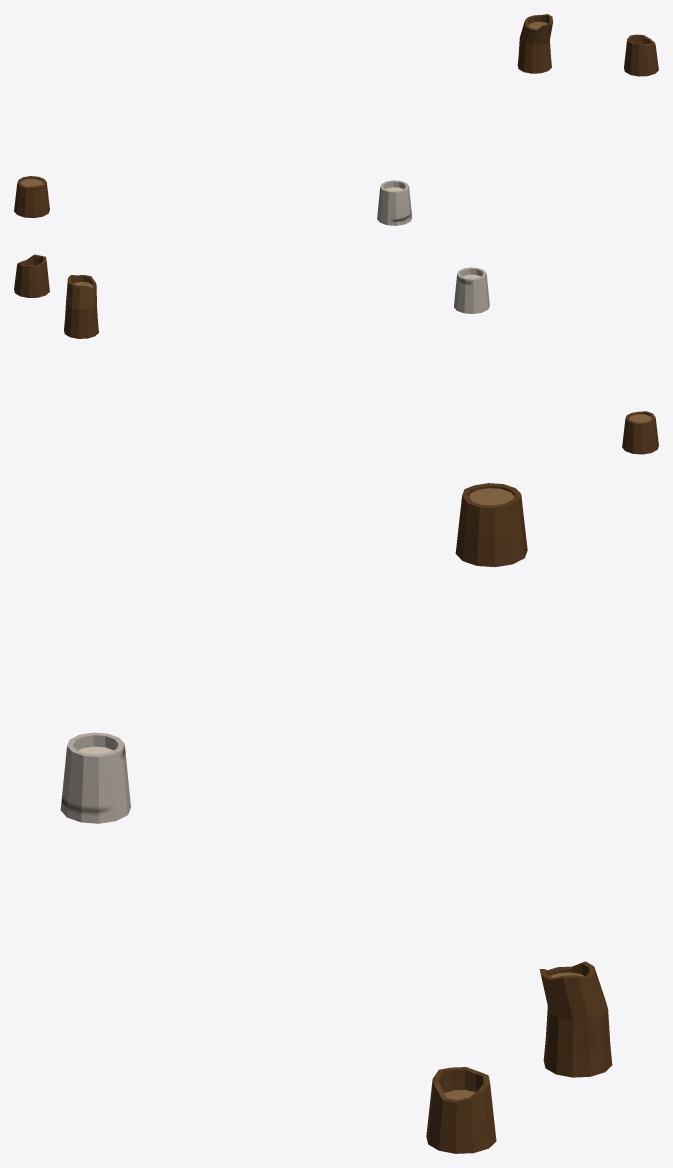
File: Trunks11.gltf
3 views of the same model, one above another, from view 1: azimuth 30°, elevation 25°; view 2: azimuth 150°, elevation 25°; view 3: azimuth 270°, elevation 25° (orthographic). The views are drawn at different scales.
Parts seen in each view (by area): view 1: Trunk3 - copy.006, Trunk2 - copy.008, Trunk1 - copy.012, Trunk4 - copy.010; view 2: Trunk3 - copy.006, Trunk2 - copy.008, Trunk1 - copy.012, Trunk4 - copy.010; view 3: Trunk3 - copy.006, Trunk2 - copy.008, Trunk4 - copy.010, Trunk1 - copy.012.
Part boxes in pixels (x1=…): Trunk3 - copy.006: x1=517, y1=14, x2=552, y2=73; Trunk2 - copy.008: x1=377, y1=180, x2=412, y2=225; Trunk1 - copy.012: x1=14, y1=176, x2=49, y2=218; Trunk4 - copy.010: x1=624, y1=34, x2=658, y2=76; Trunk3 - copy.006: x1=64, y1=275, x2=98, y2=338; Trunk2 - copy.008: x1=454, y1=267, x2=489, y2=313; Trunk1 - copy.012: x1=622, y1=411, x2=658, y2=454; Trunk4 - copy.010: x1=14, y1=254, x2=49, y2=297; Trunk3 - copy.006: x1=539, y1=961, x2=612, y2=1077; Trunk2 - copy.008: x1=60, y1=732, x2=130, y2=823; Trunk4 - copy.010: x1=426, y1=1067, x2=496, y2=1153; Trunk1 - copy.012: x1=455, y1=483, x2=527, y2=567.
Size of the model in its own units: 11.06 by 0.8278 by 4.18.
4 materials, 4 textured.
